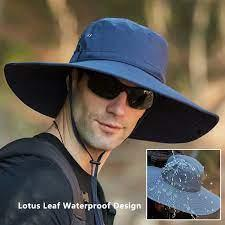cap: (1, 3, 221, 149)
sunglasses: (79, 67, 157, 113)
